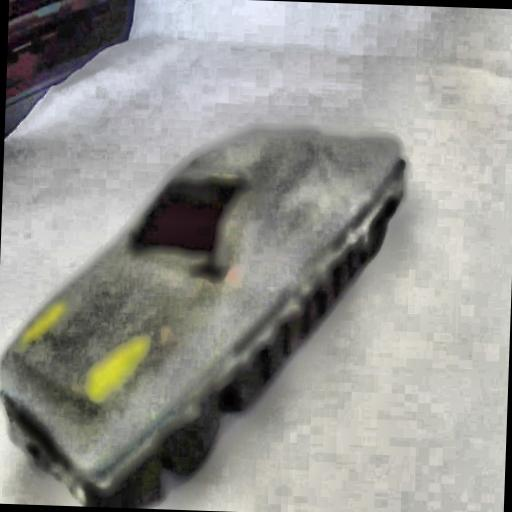normal_car: (0, 115, 405, 512)
